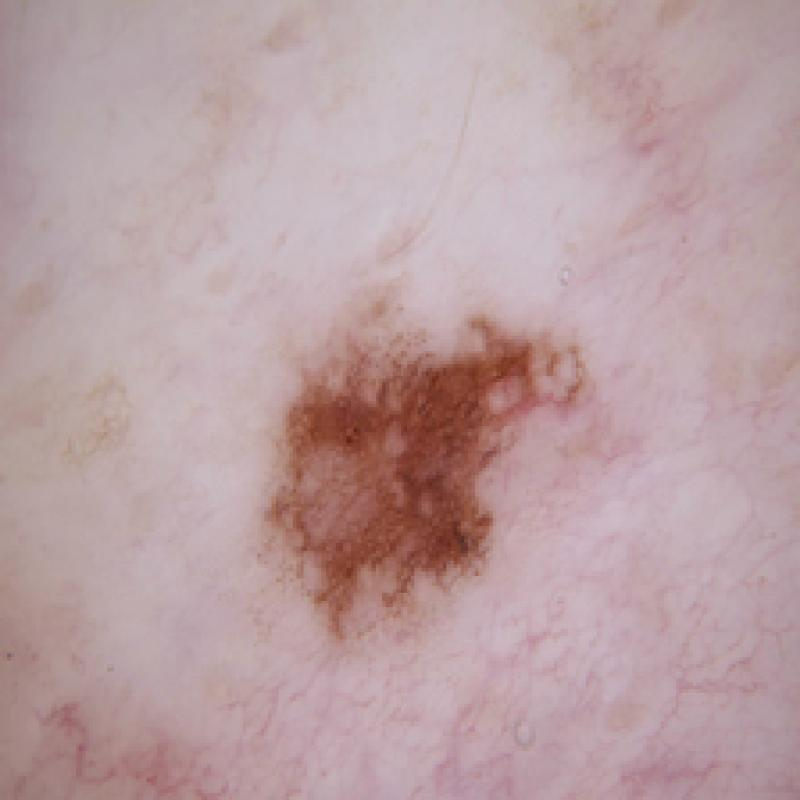benign: (231, 282, 603, 664)
